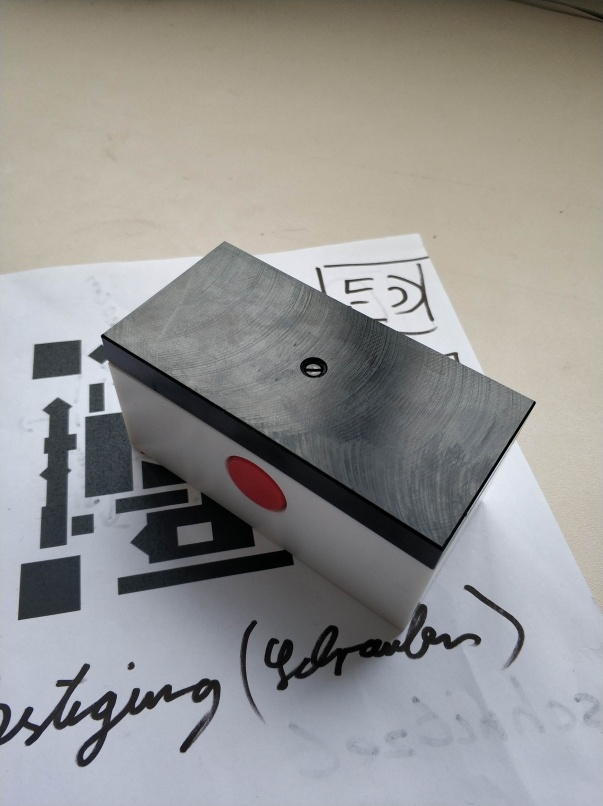black+white+red: (95, 239, 541, 644)
